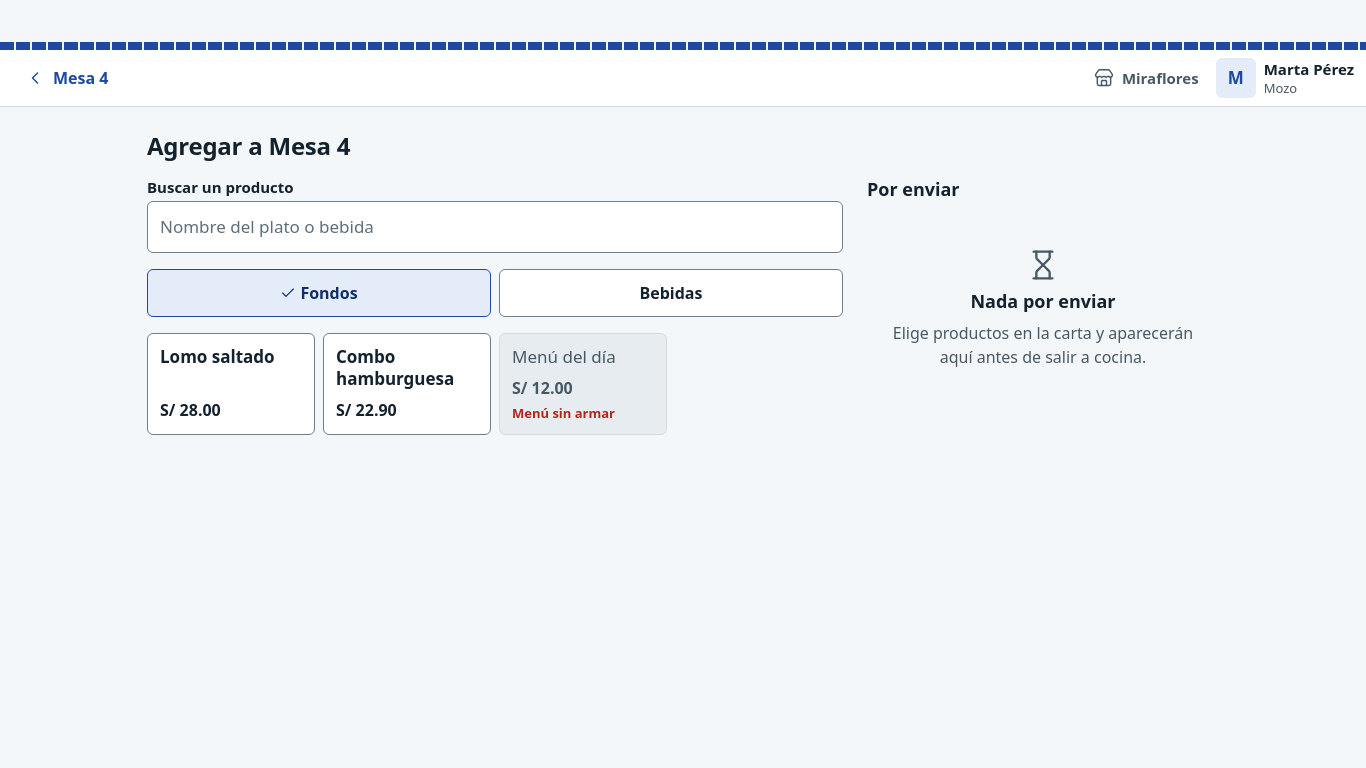
it: Comandero: la hoja de producto (criterio 91) › dice la regla de cada grupo y valida el mínimo antes de agregar
(page scrolled)
Click the button "Lomo saltado S/ 28.00": (231,384) 147,333 -> 315,435
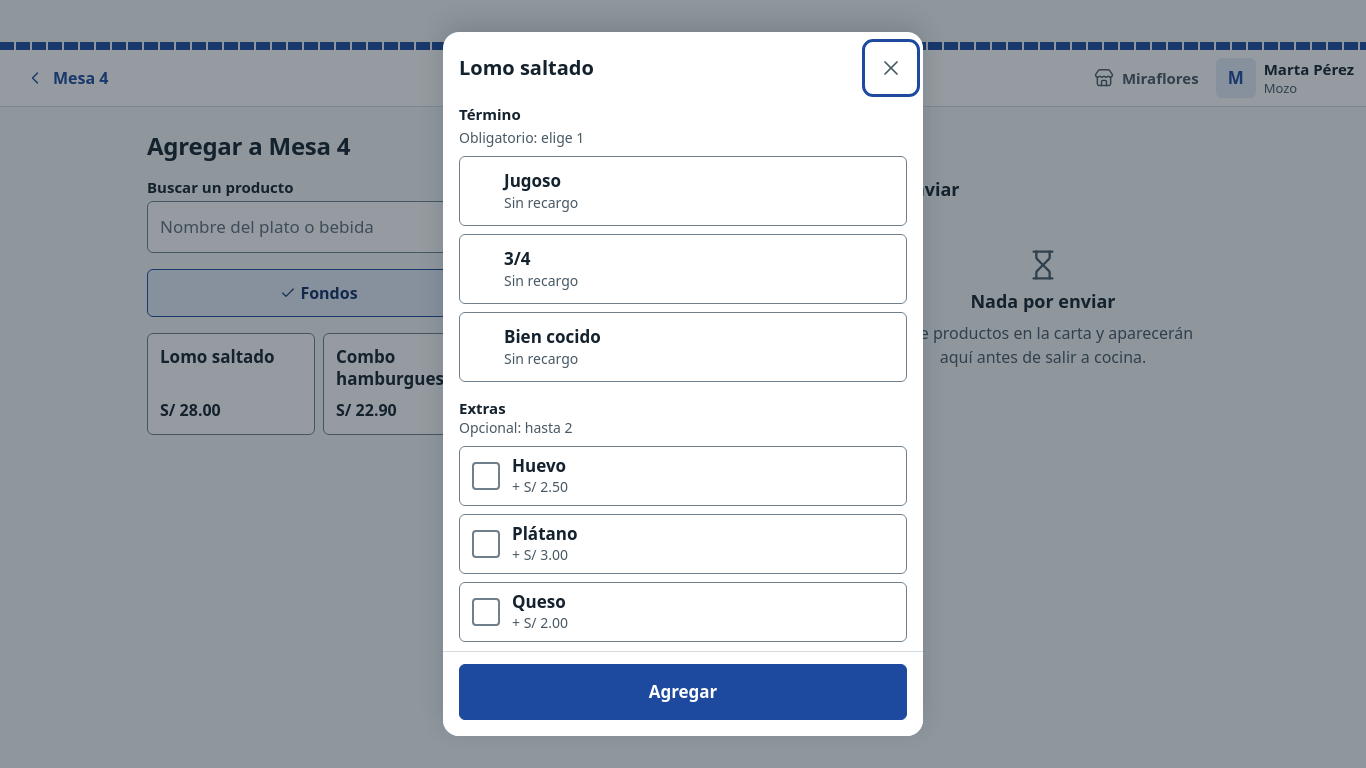
// Sin elegir el término todavía no hay precio de línea.
Click the button "Agregar": (683,692) 459,664 -> 907,720
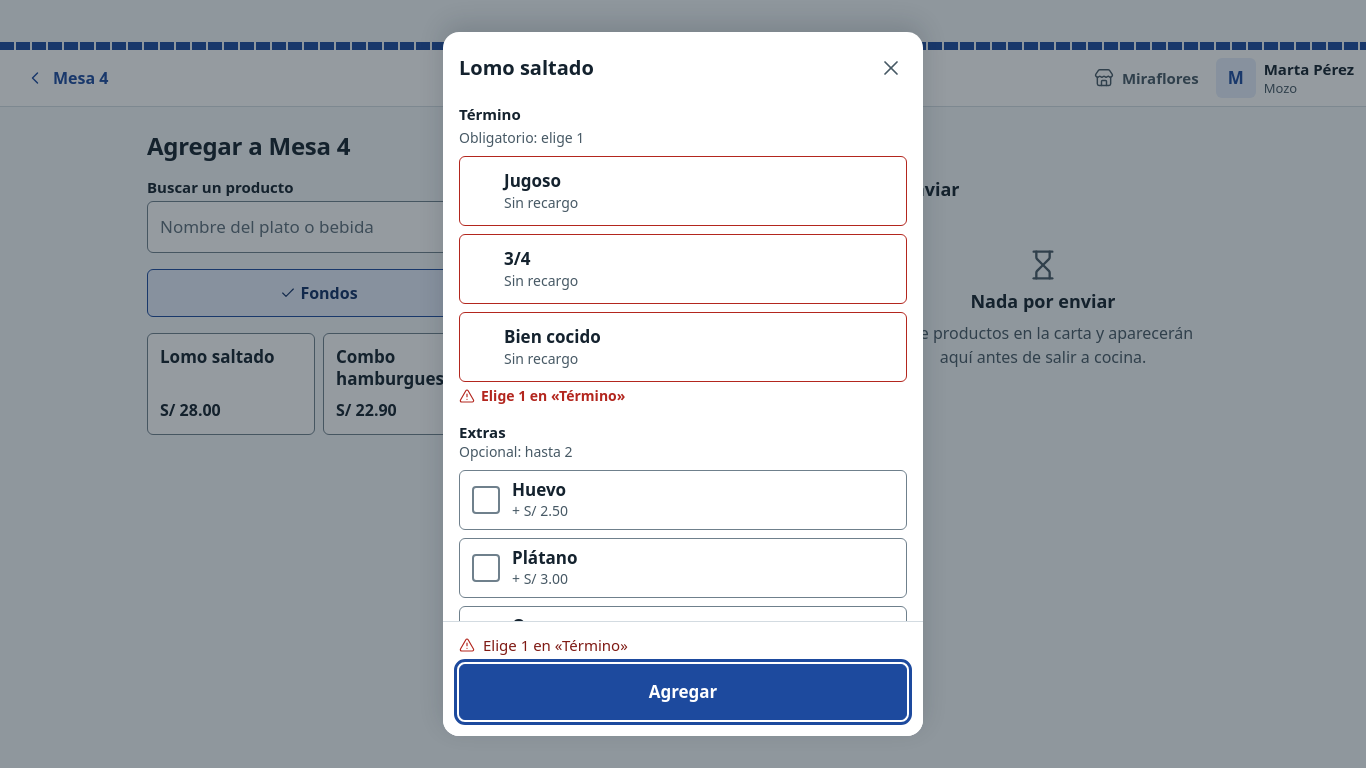
// Nada pasó al borrador.
Click the button named "Cerrar": (891,68) 867,44 -> 915,92
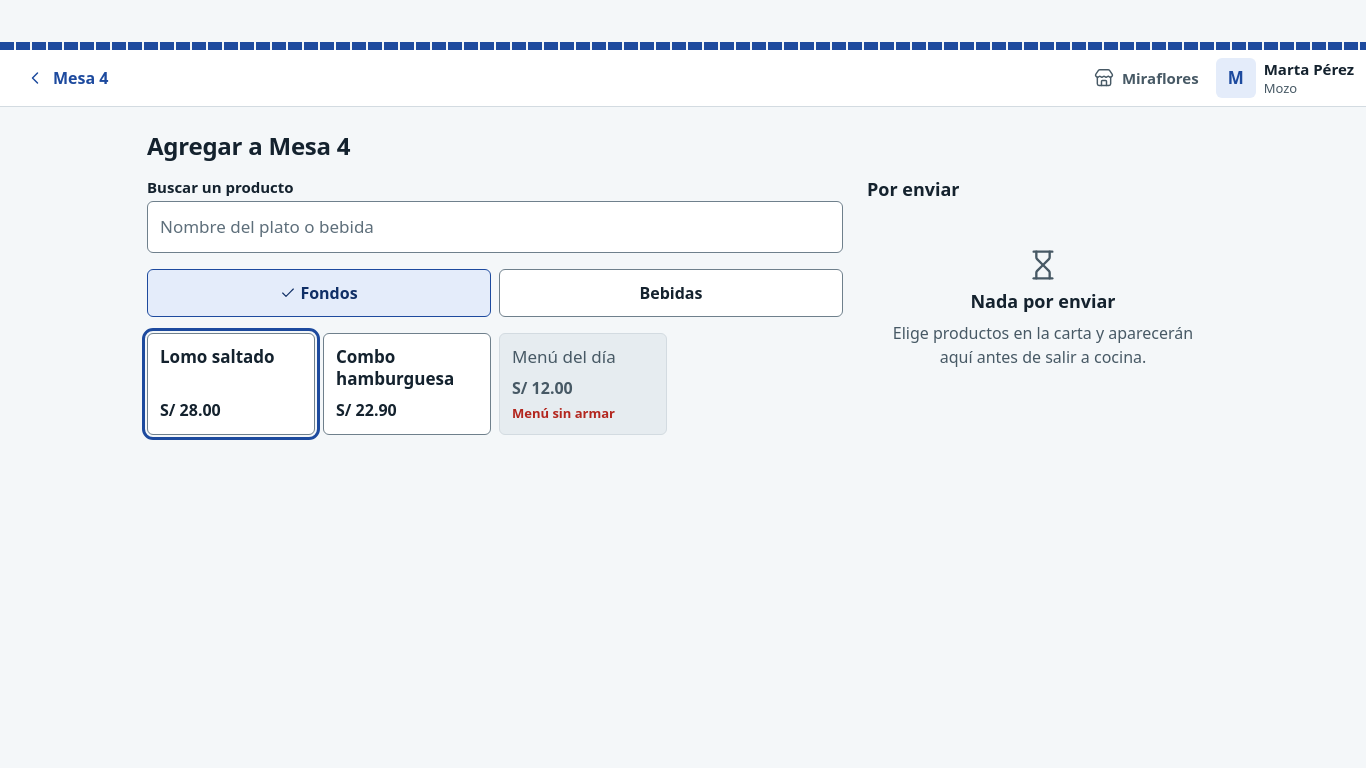
Result: the dialog is gone
